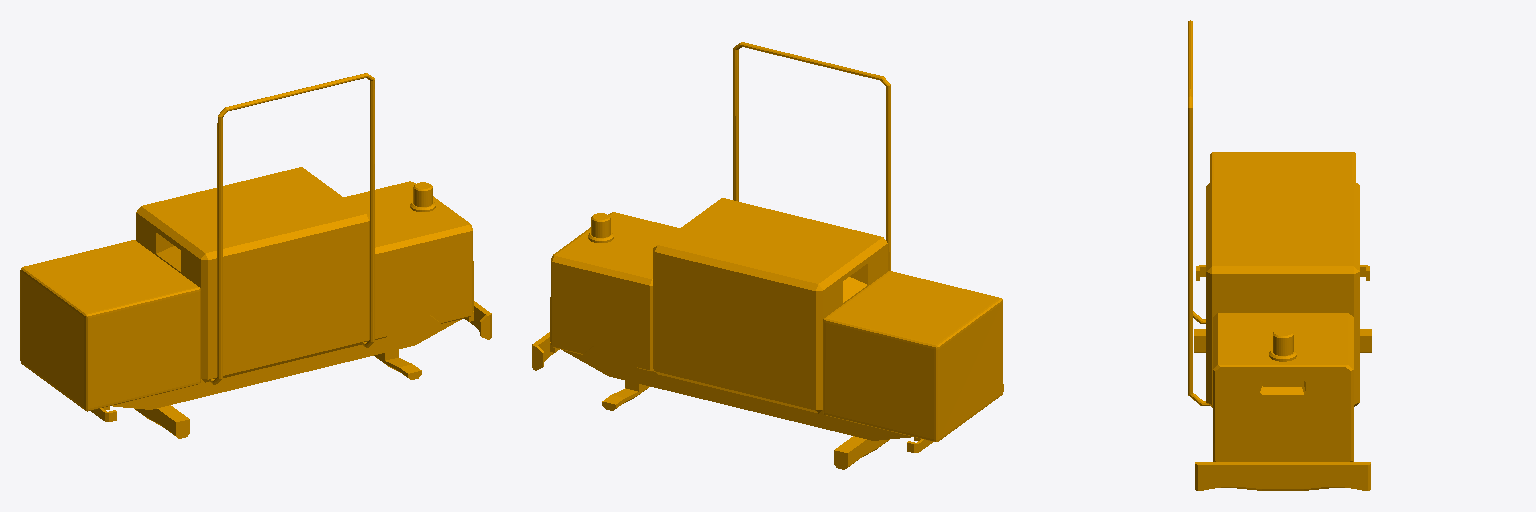
robot.urdf — apple_kraken:
<?xml version="1.0" ?>
<!-- =================================================================================== -->
<!-- |    This document was autogenerated by xacro from ./src/apple_kraken_description/urdf/apple_kraken.xacro | -->
<!-- |    EDITING THIS FILE BY HAND IS NOT RECOMMENDED                                 | -->
<!-- =================================================================================== -->
<robot name="apple_kraken">
  <!-- Used for fixing robot -->
  <!-- <link name="world"/> -->
  <!-- <gazebo reference="world">
    <static>true</static>
  </gazebo> -->
  <!-- ROBOT DEFINITION -->
  <!-- <joint name="base_joint" type="fixed">
    <origin rpy="0 0 0" xyz="0 0 0"/>
    <parent link="world"/>
    <child link="base_link"/>
  </joint> -->
  <!-- TODO(YV): Prefix all links and joints -->
  <link name="base_link">
    <inertial>
      <origin rpy="0 0 0" xyz="-0.123937 0 0.989950"/>
      <!-- TODO: Update mass as volume from Meshlab will overestimate the mass -->
      <mass value="300"/>
      <inertia ixx="50.0" ixy="0.0" ixz="0.0" iyy="240.0" iyz="0.0" izz="250.0"/>
    </inertial>
    <visual>
      <origin rpy="0 0 -1.571" xyz="0 0 0"/>
      <geometry>
        <mesh filename="package://meshes/Chassis/Chassis.dae" scale="1 1 1"/>
      </geometry>
    </visual>
    <collision>
      <origin rpy="0 0 0" xyz="0 0 1.2"/>
      <geometry>
         <box size="1.2 0.8 1" />
      </geometry>
    </collision>
     <collision>
      <origin rpy="0 0 0" xyz="1.0 0 1.25"/>
      <geometry>
         <box size="1.0 0.8 0.35" />
      </geometry>
    </collision>
    <collision>
      <origin rpy="0 0 0" xyz="-1.0 0 1.2"/>
      <geometry>
         <box size="1.0 0.8 1" />
      </geometry>
    </collision>
    <!-- <collision>
      <origin rpy="0 0 -1.571" xyz="0 0 0"/>
      <geometry>
        <mesh filename="package://meshes/Chassis/Chassis.dae" scale="1 1 1"/>
      </geometry>
    </collision> -->
  </link>
  <link name="wheel_rear_right_link">
    <inertial>
      <origin rpy="0 0 0" xyz="0 0.0 -0.11"/>
      <mass value="24.5"/>
      <inertia ixx="0.787" ixy="0.0" ixz="0.0" iyy="0.787" iyz="0.0" izz="1.309"/>
    </inertial>
    <visual>
      <origin rpy="0 1.571 0" xyz="0 0 0"/>
      <geometry>
        <mesh filename="package://meshes/Wheels/WheelRight.dae" scale="1 1 1"/>
      </geometry>
    </visual>
    <collision>
      <origin rpy="0 0 0" xyz="0 0 -0.05"/>
      <geometry>
        <cylinder length="0.22" radius="0.5"/>
      </geometry>
    </collision>
  </link>
  <link name="wheel_rear_left_link">
    <inertial>
      <origin rpy="0 0 0" xyz="0 0.0 0.11"/>
      <mass value="24.5"/>
      <inertia ixx="0.787" ixy="0.0" ixz="0.0" iyy="0.787" iyz="0.0" izz="1.309"/>
    </inertial>
    <visual>
      <origin rpy="0 1.571 0" xyz="0 0 0"/>
      <geometry>
        <mesh filename="package://meshes/Wheels/WheelLeft.dae" scale="1 1 1"/>
      </geometry>
    </visual>
    <collision>
      <origin rpy="0 0 0" xyz="0 0 0.05"/>
      <geometry>
        <cylinder length="0.22" radius="0.5"/>
      </geometry>
    </collision>
  </link>
  <link name="wheel_front_right_link">
    <inertial>
      <origin rpy="0 0 0" xyz="0 0.0 -0.11"/>
      <mass value="24.5"/>
      <inertia ixx="0.787" ixy="0.0" ixz="0.0" iyy="0.787" iyz="0.0" izz="1.309"/>
    </inertial>
    <visual>
      <origin rpy="0 1.571 0" xyz="0 0 0"/>
      <geometry>
        <mesh filename="package://meshes/Wheels/WheelRight.dae" scale="1 1 1"/>
      </geometry>
    </visual>
    <collision>
      <origin rpy="0 0 0" xyz="0 0 -0.05"/>
      <geometry>
        <cylinder length="0.22" radius="0.5"/>
      </geometry>
    </collision>
  </link>
  <link name="wheel_front_left_link">
    <inertial>
      <origin rpy="0 0 0" xyz="0 0.0 0.11"/>
      <mass value="24.5"/>
      <inertia ixx="0.787" ixy="0.0" ixz="0.0" iyy="0.787" iyz="0.0" izz="1.309"/>
    </inertial>
    <visual>
      <origin rpy="0 1.571 0" xyz="0 0 0"/>
      <geometry>
        <mesh filename="package://meshes/Wheels/WheelLeft.dae" scale="1 1 1"/>
      </geometry>
    </visual>
    <collision>
      <origin rpy="0 0 0" xyz="0 0 0.05"/>
      <geometry>
        <cylinder length="0.22" radius="0.5"/>
      </geometry>
    </collision>
  </link>
  <link name="manipulator_link_0">
    <inertial>
      <origin rpy="0.1745 0 0" xyz="0.0 -0.6 2.0"/>
      <mass value="25.0"/>
      <inertia ixx="0.002" ixy="0.0" ixz="0.0" iyy="0.068" iyz="0.0" izz="0.067"/>
    </inertial>
    <visual>
      <origin rpy="0 0 -1.571" xyz="0.0 0.0 0"/>
      <geometry>
        <mesh filename="package://meshes/Chassis/Frame.dae" scale="1 1 1"/>
      </geometry>
    </visual>
    <!-- <collision>
      <origin rpy="0 0 -1.571" xyz="0.0 0.0 0"/>
      <geometry>
        <mesh filename="package://meshes/Chassis/Frame.dae" scale="1 1 1"/>
      </geometry>
    </collision> -->
  </link>
  <link name="manipulator_link_1">
    <inertial>
      <origin rpy="0 0 0" xyz="0.0 0.0 0.0"/>
      <mass value="25.0"/>
      <inertia ixx="0.002" ixy="0.0" ixz="0.0" iyy="0.068" iyz="0.0" izz="0.067"/>
    </inertial>
    <visual>
      <origin rpy="0 0 -1.571" xyz="0.0 0.0 0"/>
      <geometry>
        <mesh filename="package://meshes/VacuumNozzle/VacuumMechanismPart01.dae" scale="1 1 1"/>
      </geometry>
    </visual>
    <!-- <collision>
      <origin rpy="0 0 -1.571" xyz="0.0 0.0 0"/>
      <geometry>
        <mesh filename="package://meshes/VacuumNozzle/VacuumMechanismPart01.dae" scale="1 1 1"/>
      </geometry>
    </collision> -->
  </link>
  <link name="manipulator_link_2">
    <inertial>
      <origin rpy="0 0 0" xyz="0.0 0.0 0.0"/>
      <mass value="10.0"/>
      <inertia ixx="0.05" ixy="0.0" ixz="0.0" iyy="0.05" iyz="0.0" izz="0.05"/>
    </inertial>
    <visual>
      <origin rpy="1.571 0 -1.571" xyz="0.0 0.0 0"/>
      <geometry>
        <mesh filename="package://meshes/VacuumNozzle/VacuumMechanismPart02.dae" scale="1 1 1"/>
      </geometry>
    </visual>
    <!-- <collision>
      <origin rpy="1.571 0 -1.571" xyz="0.0 0.0 0"/>
      <geometry>
        <mesh filename="package://meshes/VacuumNozzle/VacuumMechanismPart02.dae" scale="1 1 1"/>
      </geometry>
    </collision> -->
  </link>
  <!-- Nozzle -->
  <link name="manipulator_link_3">
    <inertial>
      <origin rpy="0 0 0" xyz="0.0 0.0 0.0"/>
      <mass value="5.0"/>
      <inertia ixx="0.01" ixy="0.0" ixz="0.0" iyy="0.01" iyz="0.0" izz="0.01"/>
    </inertial>
    <visual>
      <origin rpy="0 -1.571 0" xyz="0.0 0.0 0"/>
      <geometry>
        <mesh filename="package://meshes/VacuumNozzle/VacuumNozzle.dae" scale="1 1 1"/>
      </geometry>
    </visual>
    <!-- <collision>
      <origin rpy="0 -1.571 0" xyz="0.0 0.0 0"/>
      <geometry>
        <mesh filename="package://meshes/VacuumNozzle/VacuumNozzle.dae" scale="1 1 1"/>
      </geometry>
    </collision> -->
  </link>
  <!-- Nozzle02 -->
  <link name="manipulator_link_4">
    <inertial>
      <origin rpy="0 0 0" xyz="0.0 0.0 0.0"/>
      <mass value="5.0"/>
      <inertia ixx="0.01" ixy="0.0" ixz="0.0" iyy="0.01" iyz="0.0" izz="0.01"/>
    </inertial>
    <visual>
      <origin rpy="0 -1.571 0" xyz="0.0 0.0 0"/>
      <geometry>
        <mesh filename="package://meshes/VacuumNozzle/VacuumNozzle02.dae" scale="1 1 1"/>
      </geometry>
    </visual>
    <!-- <collision>
      <origin rpy="0 -1.571 0" xyz="0.0 0.0 0"/>
      <geometry>
        <mesh filename="package://meshes/VacuumNozzle/VacuumNozzle02.dae" scale="1 1 1"/>
      </geometry>
    </collision> -->
  </link>
  <!-- <link name="steering_rack">
    <inertial>
      <origin rpy="0 0 0" xyz="0.0 0.43 0.0"/>
      <mass value="10.0"/>
      <inertia ixx="0.067" ixy="0.0" ixz="0.0" iyy="0.002" iyz="0.0" izz="0.067"/>
    </inertial>
    <visual>
      <origin rpy="0 0 -1.571" xyz="0.0 0.43 0"/>
      <geometry>
        <mesh filename="package://meshes/Steering/SteeringRack.dae" scale="1 1 1"/>
      </geometry>
    </visual>
  </link> -->
  <!-- TODO: Add update steering links with right values of interial. -->


<!-- FRONT SUSPENSION -->
    <link name="suspension_front_left_link">
    <inertial>
      <origin rpy="0 0 0" xyz="0 0 0"/>
      <mass value="1"/>
      <inertia ixx="1" ixy="0.0" ixz="0.0" iyy="1" iyz="0.0" izz="1"/>
    </inertial>
  </link>
  <link name="suspension_front_right_link">
    <inertial>
      <origin rpy="0 0 0" xyz="0 0 0"/>
      <mass value="1"/>
      <inertia ixx="1" ixy="0.0" ixz="0.0" iyy="1" iyz="0.0" izz="1"/>
    </inertial>
  </link>
  <joint name="suspension_front_left_joint" type="prismatic">
    <origin rpy="0 0 0" xyz="0 0 0.0"/>
    <parent link="steering_front_left_link"/>
    <child link="suspension_front_left_link"/>
    <axis xyz="0.0 0.0 1.0"/>
    <dynamics damping="2.0" friction="1.0"/>
    <limit effort="1000.0" lower="-0.01" upper="0.01" velocity="1.0"/>
  </joint>
  <joint name="suspension_front_right_joint" type="prismatic">
    <origin rpy="0 0 0" xyz="0 0 0"/>
    <parent link="steering_front_right_link"/>
    <child link="suspension_front_right_link"/>
    <axis xyz="0.0 0.0 1.0"/>
    <dynamics damping="2.0" friction="1.0"/>
    <limit effort="1000.0" lower="-0.01" upper="0.01" velocity="1.0"/>
  </joint>


  <link name="steering_front_right_link">
    <inertial>
      <origin rpy="0 0 -1.571" xyz="0 0 0.05"/>
      <mass value="1"/>
      <inertia ixx="1" ixy="0.0" ixz="0.0" iyy="1" iyz="0.0" izz="1"/>
    </inertial>
    <visual>
      <origin rpy="0 0 -1.571" xyz="0.0 0.0 0"/>
      <geometry>
        <mesh filename="package://meshes/Steering/SteeringArmRight.dae" scale="1 1 1"/>
      </geometry>
    </visual>
  </link>
  <link name="steering_front_left_link">
    <inertial>
      <origin rpy="0 0 -1.571" xyz="0 0 0.05"/>
      <mass value="1"/>
      <inertia ixx="1" ixy="0.0" ixz="0.0" iyy="1" iyz="0.0" izz="1"/>
    </inertial>
    <visual>
      <origin rpy="0 0 -1.571" xyz="0.0 0.0 0"/>
      <geometry>
        <mesh filename="package://meshes/Steering/SteeringArmLeft.dae" scale="1 1 1"/>
      </geometry>
    </visual>
  </link>

<!-- REAR SUSPENSION -->
  <link name="suspension_rear_left_link">
    <inertial>
      <origin rpy="0 0 0" xyz="0 0 0"/>
      <mass value="1"/>
      <inertia ixx="1" ixy="0.0" ixz="0.0" iyy="1" iyz="0.0" izz="1"/>
    </inertial>
  </link>
  <link name="suspension_rear_right_link">
    <inertial>
      <origin rpy="0 0 0" xyz="0 0 0"/>
      <mass value="1"/>
      <inertia ixx="1" ixy="0.0" ixz="0.0" iyy="1" iyz="0.0" izz="1"/>
    </inertial>
  </link>
  <joint name="suspension_rear_left_joint" type="prismatic">
    <origin rpy="0 0 0" xyz="-1.0 -0.587966 0.499755"/>
    <parent link="base_link"/>
    <child link="suspension_rear_left_link"/>
    <axis xyz="0.0 0.0 1.0"/>
    <dynamics damping="2.0" friction="1.0"/>
    <limit effort="1000.0" lower="-0.01" upper="0.01" velocity="1.0"/>
  </joint>
  <joint name="suspension_rear_right_joint" type="prismatic">
    <origin rpy="0 0 0" xyz="-1.0 0.587966 0.499755"/>
    <parent link="base_link"/>
    <child link="suspension_rear_right_link"/>
    <axis xyz="0.0 0.0 1.0"/>
    <dynamics damping="2.0" friction="1.0"/>
    <limit effort="1000.0" lower="-0.01" upper="0.01" velocity="1.0"/>
  </joint>


  <joint name="wheel_rear_right_joint" type="continuous">
    <origin rpy="-1.571 0 0" xyz="0 0.16 0"/>
    <parent link="suspension_rear_right_link"/>
    <child link="wheel_rear_right_link"/>
    <axis xyz="0.0 0.0 1.0"/>
    <limit effort="1000000.0" velocity="1000.0"/>
  </joint>
  <joint name="wheel_rear_left_joint" type="continuous">
    <origin rpy="-1.571 0 0" xyz="0 -0.16 0"/>
    <parent link="suspension_rear_left_link"/>
    <child link="wheel_rear_left_link"/>
    <axis xyz="0.0 0.0 1.0"/>
    <limit effort="1000000.0" velocity="1000.0"/>
  </joint>
  <joint name="wheel_front_right_joint" type="continuous">
    <origin rpy="-1.571 0 0" xyz="0 -0.108 0.053387"/>
    <parent link="suspension_front_right_link"/>
    <child link="wheel_front_right_link"/>
    <axis xyz="0.0 0.0 1.0"/>
    <limit effort="1000000.0" velocity="1000.0"/>
  </joint>
  <joint name="wheel_front_left_joint" type="continuous">
    <origin rpy="-1.571 0 0" xyz="0 0.108 0.053387"/>
    <parent link="suspension_front_left_link"/>
    <child link="wheel_front_left_link"/>
    <axis xyz="0.0 0.0 1.0"/>
    <limit effort="1000000.0" velocity="1000.0"/>
  </joint>
  <!-- <joint name="steering_rack_joint_R" type="revolute">
    <origin rpy="0 0 0" xyz="-0.1637 0 0.035"/>
    <parent link="steering_front_right_link"/>
    <child link="steering_rack"/>
    <axis xyz="0.0 0.0 1.0"/>
    <limit effort="1000000.0" lower="-0.5235" upper="0.5235" velocity="100"/>
  </joint>
  <joint name="steering_rack_joint_L" type="revolute">
    <origin rpy="0 0 0" xyz="-0.1637 0 0.035"/>
    <parent link="steering_front_left_link"/>
    <child link="steering_rack"/>
    <axis xyz="0.0 0.0 1.0"/>
    <limit effort="1000000.0" lower="-0.5235" upper="0.5235" velocity="100"/>
  </joint> -->
  <joint name="steering_front_right_joint" type="revolute">
    <origin rpy="0 0 0" xyz="1.0 -0.427443 0.446368"/>
    <parent link="base_link"/>
    <child link="steering_front_right_link"/>
    <axis xyz="0.0 0.0 1.0"/>
    <dynamics damping="2.0" friction="1.0"/>
    <limit effort="1000000.0" lower="-0.5235" upper="0.5235" velocity="100"/>
  </joint>

  <joint name="steering_front_left_joint" type="revolute">
    <origin rpy="0 0 0" xyz="1.0 0.427443 0.446368"/>
    <parent link="base_link"/>
    <child link="steering_front_left_link"/>
    <axis xyz="0.0 0.0 1.0"/>
    <dynamics damping="2.0" friction="1.0"/>
    <limit effort="1000000.0" lower="-0.5235" upper="0.5235" velocity="100"/>
  </joint>
  <joint name="manipulator_joint_0" type="fixed">
    <origin rpy="0 0 0" xyz="0.003927 0 0.0"/>
    <parent link="base_link"/>
    <child link="manipulator_link_0"/>
  </joint>
  <!-- Joint that moves manipulator along Z-Axis -->
  <joint name="manipulator_joint_1" type="prismatic">
    <origin rpy="-0.1745 0 0" xyz="-0.06913 -0.556346 2.7"/>
    <parent link="base_link"/>
    <child link="manipulator_link_1"/>
    <axis xyz="0.0 0.0 1.0"/>
    <dynamics damping="2.0" friction="1.0"/>
    <limit effort="1000.0" lower="-1.25" upper="0.0" velocity="1.0"/>
  </joint>
  <!-- Joint that moves manipulator along X-Axis -->
  <joint name="manipulator_joint_2" type="prismatic">
    <origin rpy="0 1.571 0" xyz="0 0 0"/>
    <parent link="manipulator_link_1"/>
    <child link="manipulator_link_2"/>
    <axis xyz="0.0 0.0 1.0"/>
    <dynamics damping="2.0" friction="1.0"/>
    <limit effort="1000.0" lower="-0.32" upper="0.32" velocity="1.0"/>
  </joint>
  <!-- Nozzle -->
  <joint name="manipulator_joint_3" type="prismatic">
    <origin rpy="1.571 0 0" xyz="-0.067 -0.35 -0.004"/>
    <parent link="manipulator_link_2"/>
    <child link="manipulator_link_3"/>
    <axis xyz="0.0 0.0 1.0"/>
    <dynamics damping="2.0" friction="1.0"/>
    <limit effort="1000.0" lower="0" upper="0.28" velocity="1.0"/>
  </joint>
  <!-- Nozzle02 -->
  <joint name="manipulator_joint_4" type="prismatic">
    <origin rpy="0 0 0" xyz="0 0 0"/>
    <parent link="manipulator_link_3"/>
    <child link="manipulator_link_4"/>
    <axis xyz="0.0 0.0 1.0"/>
    <dynamics damping="2.0" friction="1.0"/>
    <limit effort="1000.0" lower="0" upper="0.28" velocity="1.0"/>
  </joint>




  <gazebo reference="base_link">
    <mu1>0.2</mu1>
    <mu2>0.2</mu2>
    <selfCollide>false</selfCollide>
    <gravity>true</gravity>
  </gazebo>
  <gazebo reference="wheel_rear_right_link">
    <mu1>3.0</mu1>
    <mu2>3.0</mu2>
    <kp>10000000.0</kp>
    <kd>1.0</kd>
    <selfCollide>false</selfCollide>
  </gazebo>
  <gazebo reference="wheel_rear_left_link">
    <mu1>3.0</mu1>
    <mu2>3.0</mu2>
    <kp>10000000.0</kp>
    <kd>1.0</kd>
    <selfCollide>false</selfCollide>
  </gazebo>
  <gazebo reference="wheel_front_right_link">
    <mu1>3.0</mu1>
    <mu2>3.0</mu2>
    <kp>10000000.0</kp>
    <kd>1.0</kd>
    <selfCollide>false</selfCollide>
  </gazebo>
  <gazebo reference="wheel_front_left_link">
    <mu1>1.1</mu1>
    <mu2>1.1</mu2>
    <kp>10000000.0</kp>
    <kd>1.0</kd>
    <selfCollide>false</selfCollide>
  </gazebo>
  <gazebo reference="steering_front_right_link">
    <mu1>0.2</mu1>
    <mu2>0.2</mu2>
    <selfCollide>false</selfCollide>
  </gazebo>
  <gazebo reference="steering_front_left_link">
    <mu1>0.2</mu1>
    <mu2>0.2</mu2>
    <selfCollide>false</selfCollide>
  </gazebo>
  <gazebo reference="manipulator_link_1">
    <mu1>3.0</mu1>
    <mu2>3.0</mu2>
    <kp>10000000.0</kp>
    <kd>1.0</kd>
    <selfCollide>false</selfCollide>
  </gazebo>
  <gazebo reference="manipulator_link_2">
    <mu1>3.0</mu1>
    <mu2>3.0</mu2>
    <kp>10000000.0</kp>
    <kd>1.0</kd>
    <selfCollide>false</selfCollide>
  </gazebo>
  <gazebo reference="manipulator_link_3">
    <mu1>3.0</mu1>
    <mu2>3.0</mu2>
    <kp>10000000.0</kp>
    <kd>1.0</kd>
    <selfCollide>false</selfCollide>
  </gazebo>
  <gazebo>
    <plugin filename="libgazebo_ros_ackermann_drive.so" name="ackermann_drive">
      <update_rate>20.0</update_rate>
      <!-- wheels -->
      <front_left_joint>wheel_front_left_joint</front_left_joint>
      <front_right_joint>wheel_front_right_joint</front_right_joint>
      <rear_left_joint>wheel_rear_left_joint</rear_left_joint>
      <rear_right_joint>wheel_rear_right_joint</rear_right_joint>
      <left_steering_joint>steering_front_left_joint</left_steering_joint>
      <right_steering_joint>steering_front_right_joint</right_steering_joint>
      <!-- <steering_wheel_joint>steering_wheel_joint</steering_wheel_joint> -->
      <!-- Max absolute steer angle for tyre in radians-->
      <!-- Any cmd_vel angular z greater than this would be capped -->
      <max_steer>0.5235</max_steer>
      <!-- Max absolute steering angle of steering wheel -->
      <max_steering_angle>7.85</max_steering_angle>
      <!-- Max absolute linear speed in m/s -->
      <max_speed>50</max_speed>
      <!-- PID tuning -->
      <left_steering_pid_gain>3000 0 100</left_steering_pid_gain>
      <left_steering_i_range>0 0</left_steering_i_range>
      <right_steering_pid_gain>3000 0 100</right_steering_pid_gain>
      <right_steering_i_range>0 0</right_steering_i_range>
      <linear_velocity_pid_gain>3000 0 100</linear_velocity_pid_gain>
      <linear_velocity_i_range>0 0</linear_velocity_i_range>
      <!-- output -->
      <publish_odom>true</publish_odom>
      <publish_odom_tf>true</publish_odom_tf>
      <publish_wheel_tf>true</publish_wheel_tf>
      <publish_distance>true</publish_distance>
      <odometry_frame>odom</odometry_frame>
      <robot_base_frame>base_link</robot_base_frame>
    </plugin>
  </gazebo>
  <!-- ros_control plugin -->
  <gazebo>
    <plugin filename="libgazebo_ros2_control.so" name="gazebo_ros2_control">
      <robot_param>robot_description</robot_param>
      <robot_param_node>robot_state_publisher</robot_param_node>
      <parameters>[local-path]/ros2_ws/install/apple_kraken_bringup/share/apple_kraken_bringup/config/controllers.yaml</parameters>
    </plugin>
  </gazebo>
  <ros2_control name="AppleKrakenPositionOnlyHardware" type="system">
    <hardware>
      <!-- TODO(YV): Update once SystemInterface is implemented for real robot -->
      <plugin>apple_kraken_hardware_interface/AppleKrakenPositionOnlyHardware</plugin>
    </hardware>
    <joint name="manipulator_joint_1">
      <command_interface name="position">
        <param name="min">-1.25</param>
        <param name="max">0.0</param>
      </command_interface>
      <command_interface name="velocity">
        <param name="min">-1.0</param>
        <param name="max">1.0</param>
      </command_interface>
      <state_interface name="position">
        <param name="initial_value">0.0</param>
      </state_interface>
      <state_interface name="velocity">
        <param name="initial_value">0.0</param>
      </state_interface>
    </joint>
    <joint name="manipulator_joint_2">
      <command_interface name="position">
        <param name="min">-0.32</param>
        <param name="max">0.32</param>
      </command_interface>
      <command_interface name="velocity">
        <param name="min">-1.0</param>
        <param name="max">1.0</param>
      </command_interface>
      <state_interface name="position">
        <param name="initial_value">0.0</param>
      </state_interface>
      <state_interface name="velocity">
        <param name="initial_value">0.0</param>
      </state_interface>
    </joint>
    <joint name="manipulator_joint_3">
      <command_interface name="position">
        <param name="min">0.0</param>
        <param name="max">0.28</param>
      </command_interface>
      <command_interface name="velocity">
        <param name="min">-1.0</param>
        <param name="max">1.0</param>
      </command_interface>
      <state_interface name="position">
        <param name="initial_value">0.0</param>
      </state_interface>
      <state_interface name="velocity">
        <param name="initial_value">0.0</param>
      </state_interface>
    </joint>
    <joint name="manipulator_joint_4">
      <command_interface name="position">
        <param name="min">0.0</param>
        <param name="max">0.28</param>
      </command_interface>
      <command_interface name="velocity">
        <param name="min">-1.0</param>
        <param name="max">1.0</param>
      </command_interface>
      <state_interface name="position">
        <param name="initial_value">0.0</param>
      </state_interface>
      <state_interface name="velocity">
        <param name="initial_value">0.0</param>
      </state_interface>
    </joint>
    <!-- State interfaces only -->
    <joint name="wheel_rear_right_joint">
      <state_interface name="position"/>
    </joint>
    <joint name="wheel_rear_left_joint">
      <state_interface name="position"/>
    </joint>
    <joint name="wheel_front_right_joint">
      <state_interface name="position"/>
    </joint>
    <joint name="wheel_front_left_joint">
      <state_interface name="position"/>
    </joint>
    <joint name="steering_rack_joint_R">
      <state_interface name="position"/>
    </joint>
    <joint name="steering_rack_joint_L">
      <state_interface name="position"/>
    </joint>
    <joint name="steering_front_right_joint">
      <state_interface name="position"/>
    </joint>
    <joint name="steering_front_left_joint">
      <state_interface name="position"/>
    </joint>
  </ros2_control>
</robot>

--- Facts derived from the render (not from the file) ---
The picture shows the robot from 3 angles, left to right: view 1: azimuth 30°, elevation 25°; view 2: azimuth 150°, elevation 25°; view 3: azimuth 270°, elevation 25°; orthographic projection.
Model apple_kraken with 16 links and 15 joints (2 revolute, 4 continuous, 8 prismatic, 1 fixed), rooted at base_link, posed every joint at zero.
Links seen in each view (by area): view 1: base_link; view 2: base_link; view 3: base_link.
Link boxes in pixels (x1,y1,x2,y2): base_link: (20, 73, 491, 438); base_link: (532, 42, 1003, 469); base_link: (1188, 20, 1371, 490).
Size in the robot's own frame: 3.33 by 1.22 by 2.63 metres.
1 mesh visuals loaded from 10 distinct referenced files (1 Collada DAE); not drawn: 11 (reference not matched to a file when rendering).